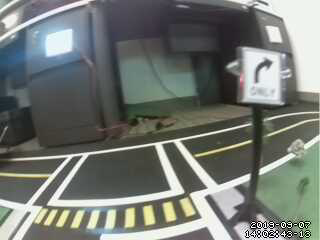Right_only_sign: (244, 49, 283, 106)
